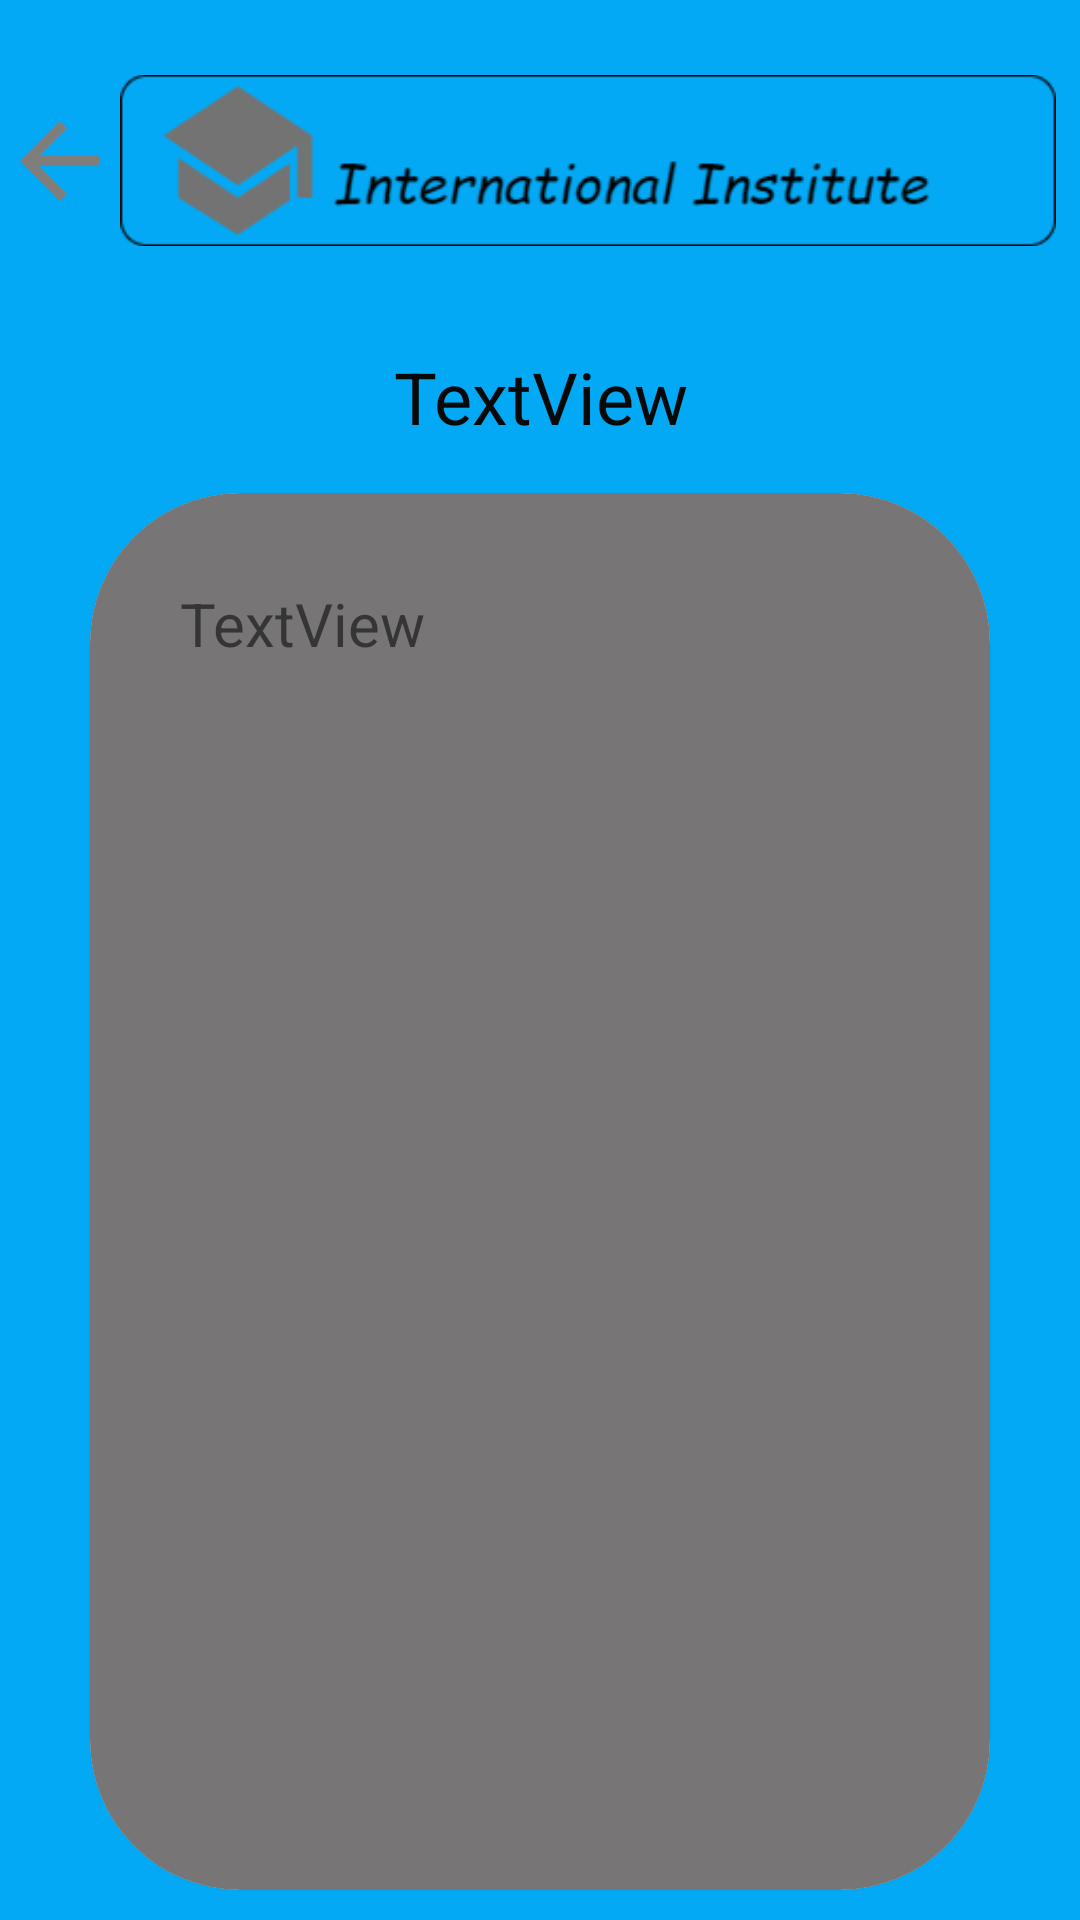

Locate icon controls on the screen. Image size 1080px×1920px, boxes as (x1, y1, x2, y2).
arrow back: (20, 121, 100, 201)
